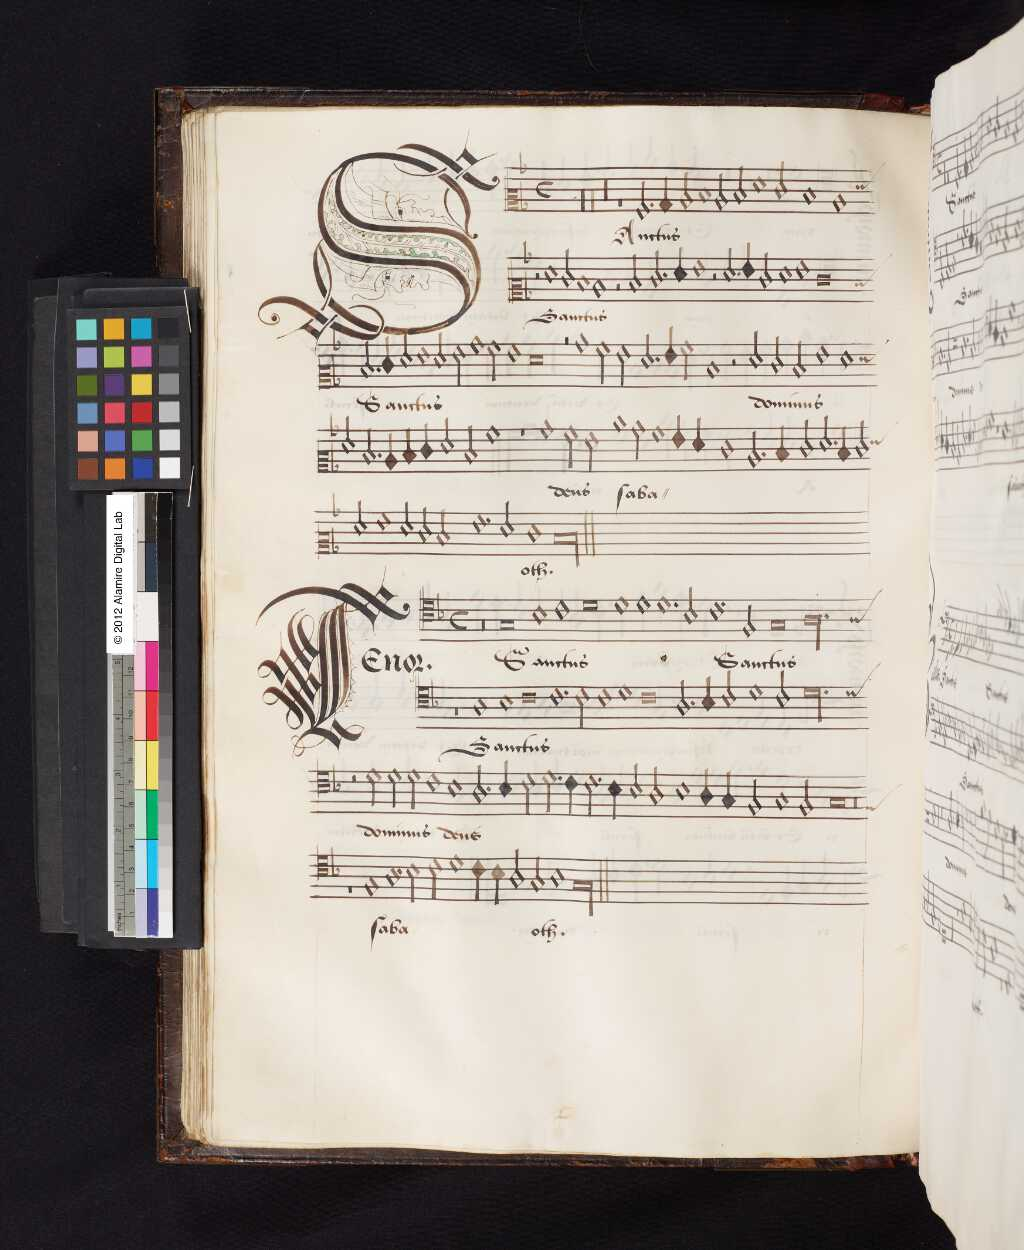Imin: (442, 597, 475, 643)
breve rest: (475, 588, 489, 652)
breve_4: (576, 587, 603, 622)
breve_8: (494, 612, 521, 638), (765, 609, 789, 640)
c clef_5: (415, 580, 438, 641)
custos_7: (844, 586, 880, 638)
flat_6: (434, 582, 450, 632)
longa_7: (799, 602, 825, 663)
minim_6: (681, 578, 699, 632)
minim_9: (740, 594, 758, 645)
point: (814, 601, 844, 624), (667, 592, 682, 615), (715, 593, 730, 612)
semibreve_4: (609, 585, 632, 625), (634, 585, 654, 622), (654, 585, 674, 622)
semibreve_5: (550, 589, 574, 629), (706, 590, 728, 631)
semibreve_6: (527, 594, 550, 636)
